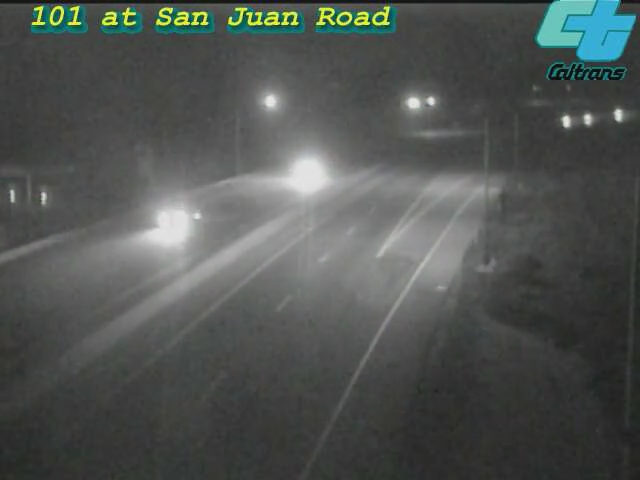vehicle: (132, 180, 212, 260), (264, 133, 344, 213), (563, 93, 613, 143), (540, 97, 590, 147), (594, 90, 640, 140)
